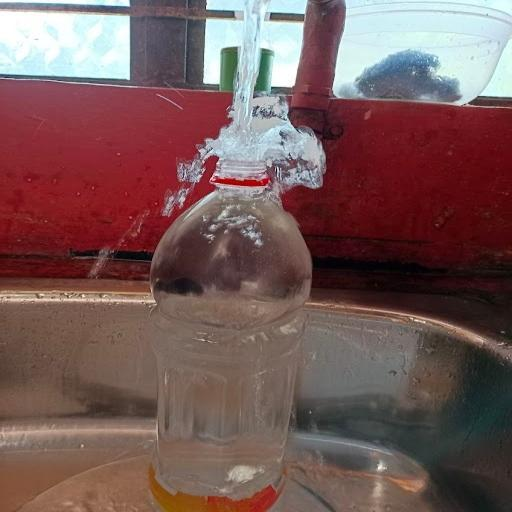bottle: (138, 149, 322, 512)
